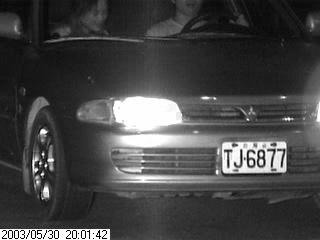plate: (220, 138, 288, 175)
